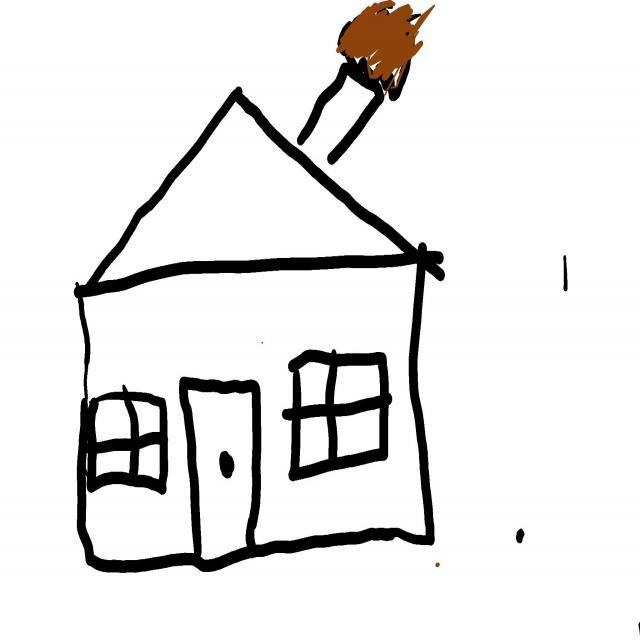chimney: (293, 57, 391, 176)
door: (185, 372, 261, 570)
house: (69, 59, 461, 576)
roof: (76, 83, 438, 291)
wall: (79, 263, 427, 571)
window: (292, 351, 386, 479), (93, 392, 167, 492)
